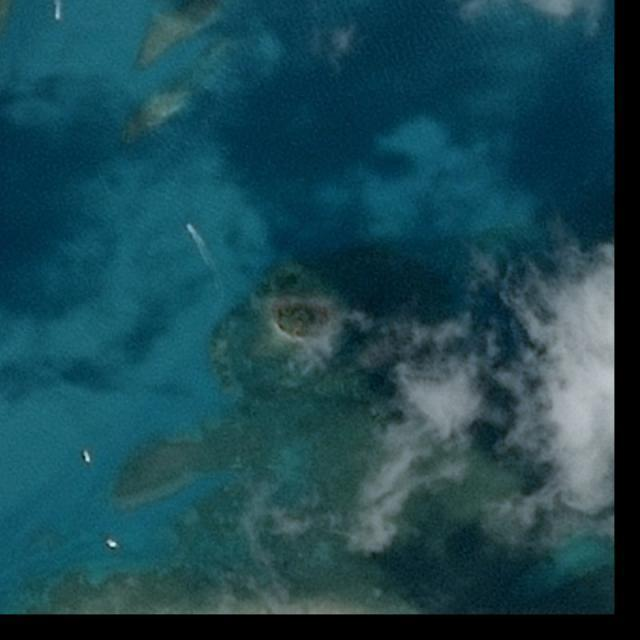ship: (81, 449, 94, 466), (105, 538, 119, 550), (186, 223, 194, 231), (54, 13, 61, 20)
